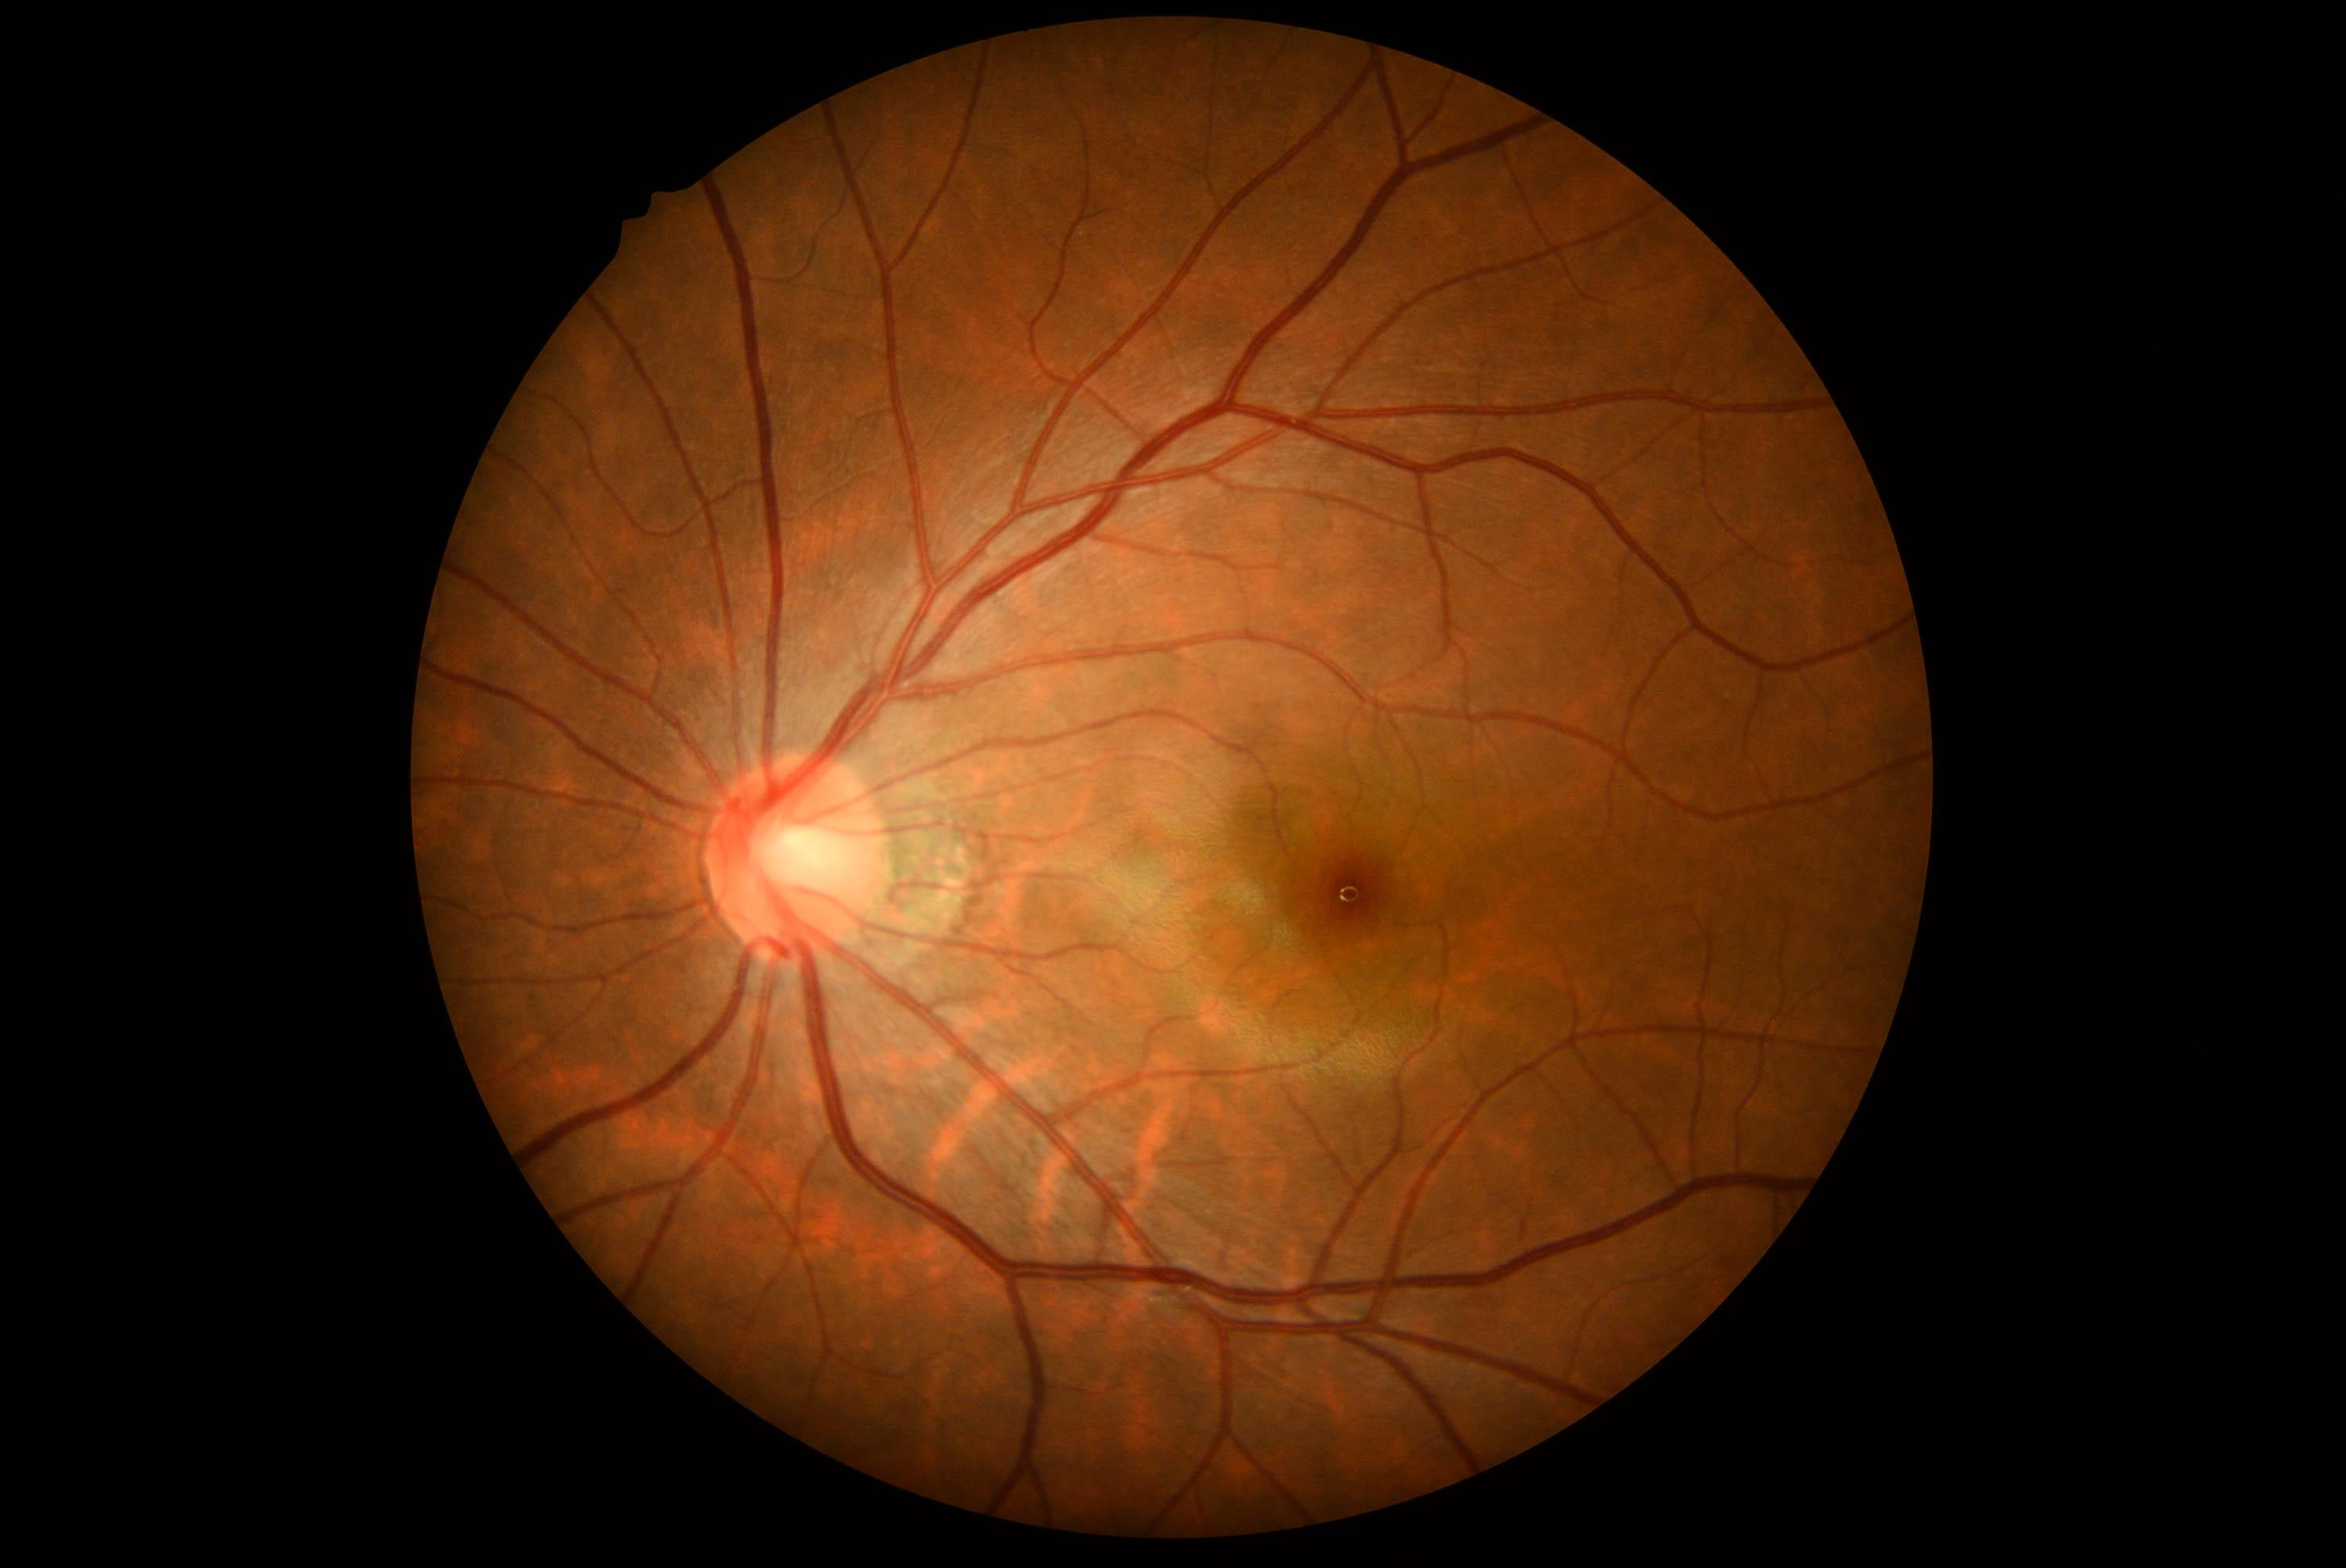Fovea: (1284, 814, 1415, 957)
